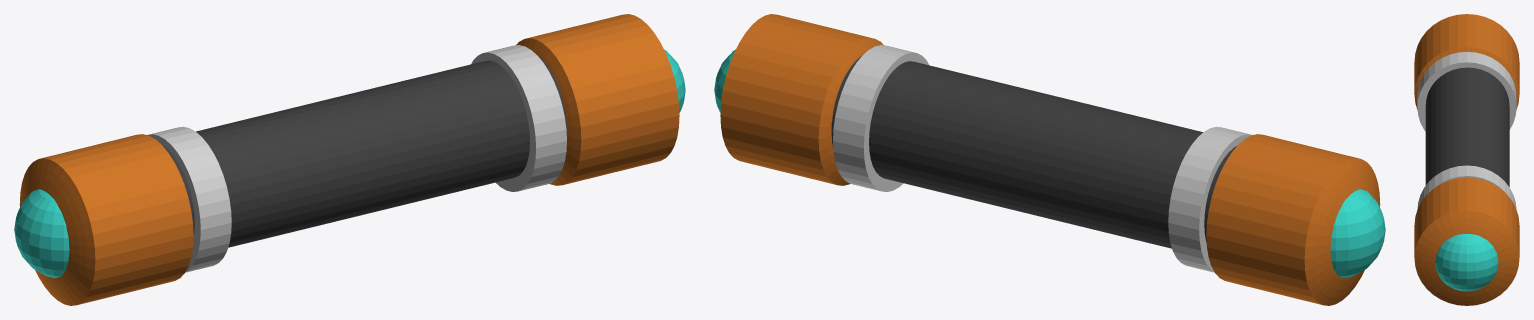
Rendered from bita.fbx.
The picture shows the model from 3 angles, left to right: view 1: azimuth 30°, elevation 25°; view 2: azimuth 150°, elevation 25°; view 3: azimuth 270°, elevation 25°; orthographic projection. The views are drawn at different scales.
Parts seen in each view (by area): view 1: Объект_Капсула, Объект_Цистерна_1, Объект_Цистерна, Объект_Труба_1, Объект_Труба, Объект_Сфера_1, Объект_Сфера; view 2: Объект_Капсула, Объект_Цистерна_1, Объект_Цистерна, Объект_Труба_1, Объект_Труба, Объект_Сфера_1, Объект_Сфера; view 3: Объект_Цистерна, Объект_Капсула, Объект_Цистерна_1, Объект_Сфера, Объект_Труба, Объект_Труба_1.
Part boxes in pixels (box(x1,y1,x2,y2)): Объект_Капсула: box(162, 55, 566, 247); Объект_Цистерна_1: box(19, 134, 193, 305); Объект_Цистерна: box(516, 14, 679, 185); Объект_Труба_1: box(471, 45, 566, 191); Объект_Труба: box(147, 126, 231, 272); Объект_Сфера_1: box(14, 189, 69, 278); Объект_Сфера: box(664, 49, 685, 112); Объект_Капсула: box(831, 55, 1236, 248); Объект_Цистерна_1: box(1206, 134, 1380, 305); Объект_Цистерна: box(720, 14, 883, 185); Объект_Труба_1: box(833, 45, 928, 191); Объект_Труба: box(1168, 126, 1252, 272); Объект_Сфера_1: box(1330, 189, 1385, 278); Объект_Сфера: box(714, 49, 735, 112); Объект_Цистерна: box(1414, 177, 1519, 305); Объект_Капсула: box(1425, 67, 1509, 186); Объект_Цистерна_1: box(1414, 14, 1519, 109); Объект_Сфера: box(1435, 233, 1498, 291); Объект_Труба: box(1417, 52, 1516, 131); Объект_Труба_1: box(1417, 165, 1516, 208).
Bounding box in the file's own units: 1323 × 267 × 263.
